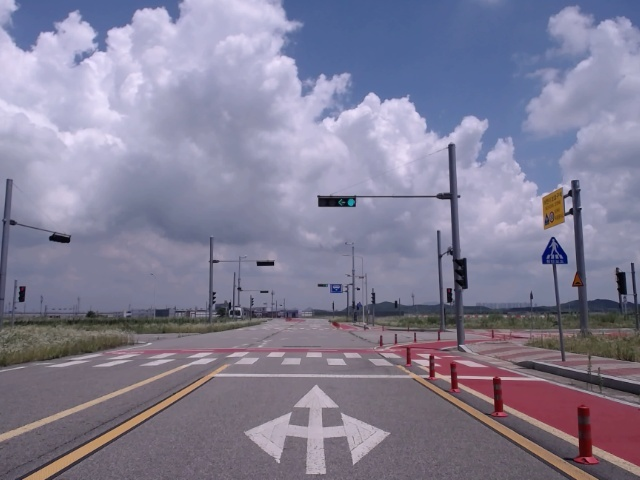all_green_4: (318, 194, 359, 206)
